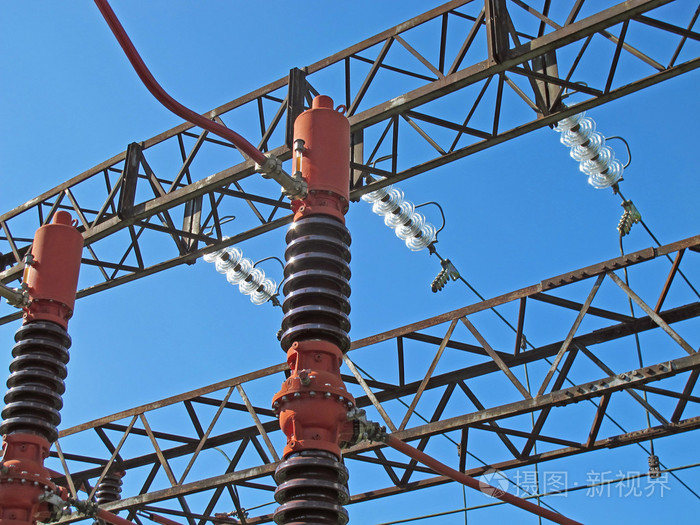insulator: (550, 104, 621, 187), (363, 176, 435, 251), (202, 238, 276, 306)
